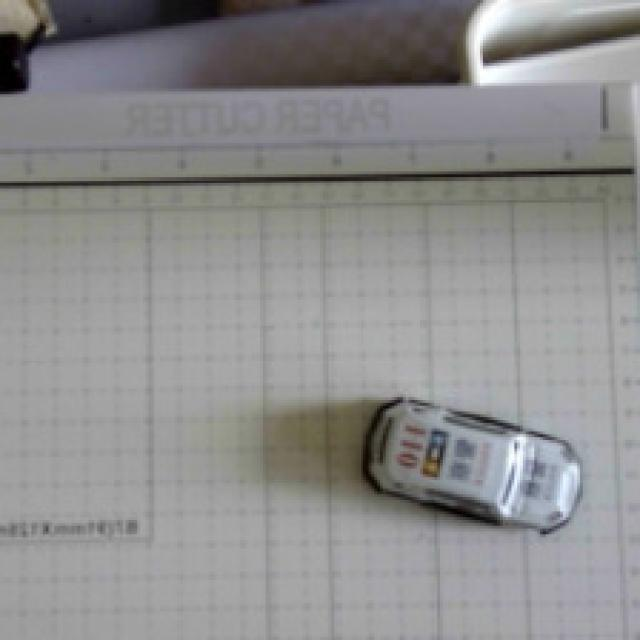Grey Car: (324, 376, 605, 553)
